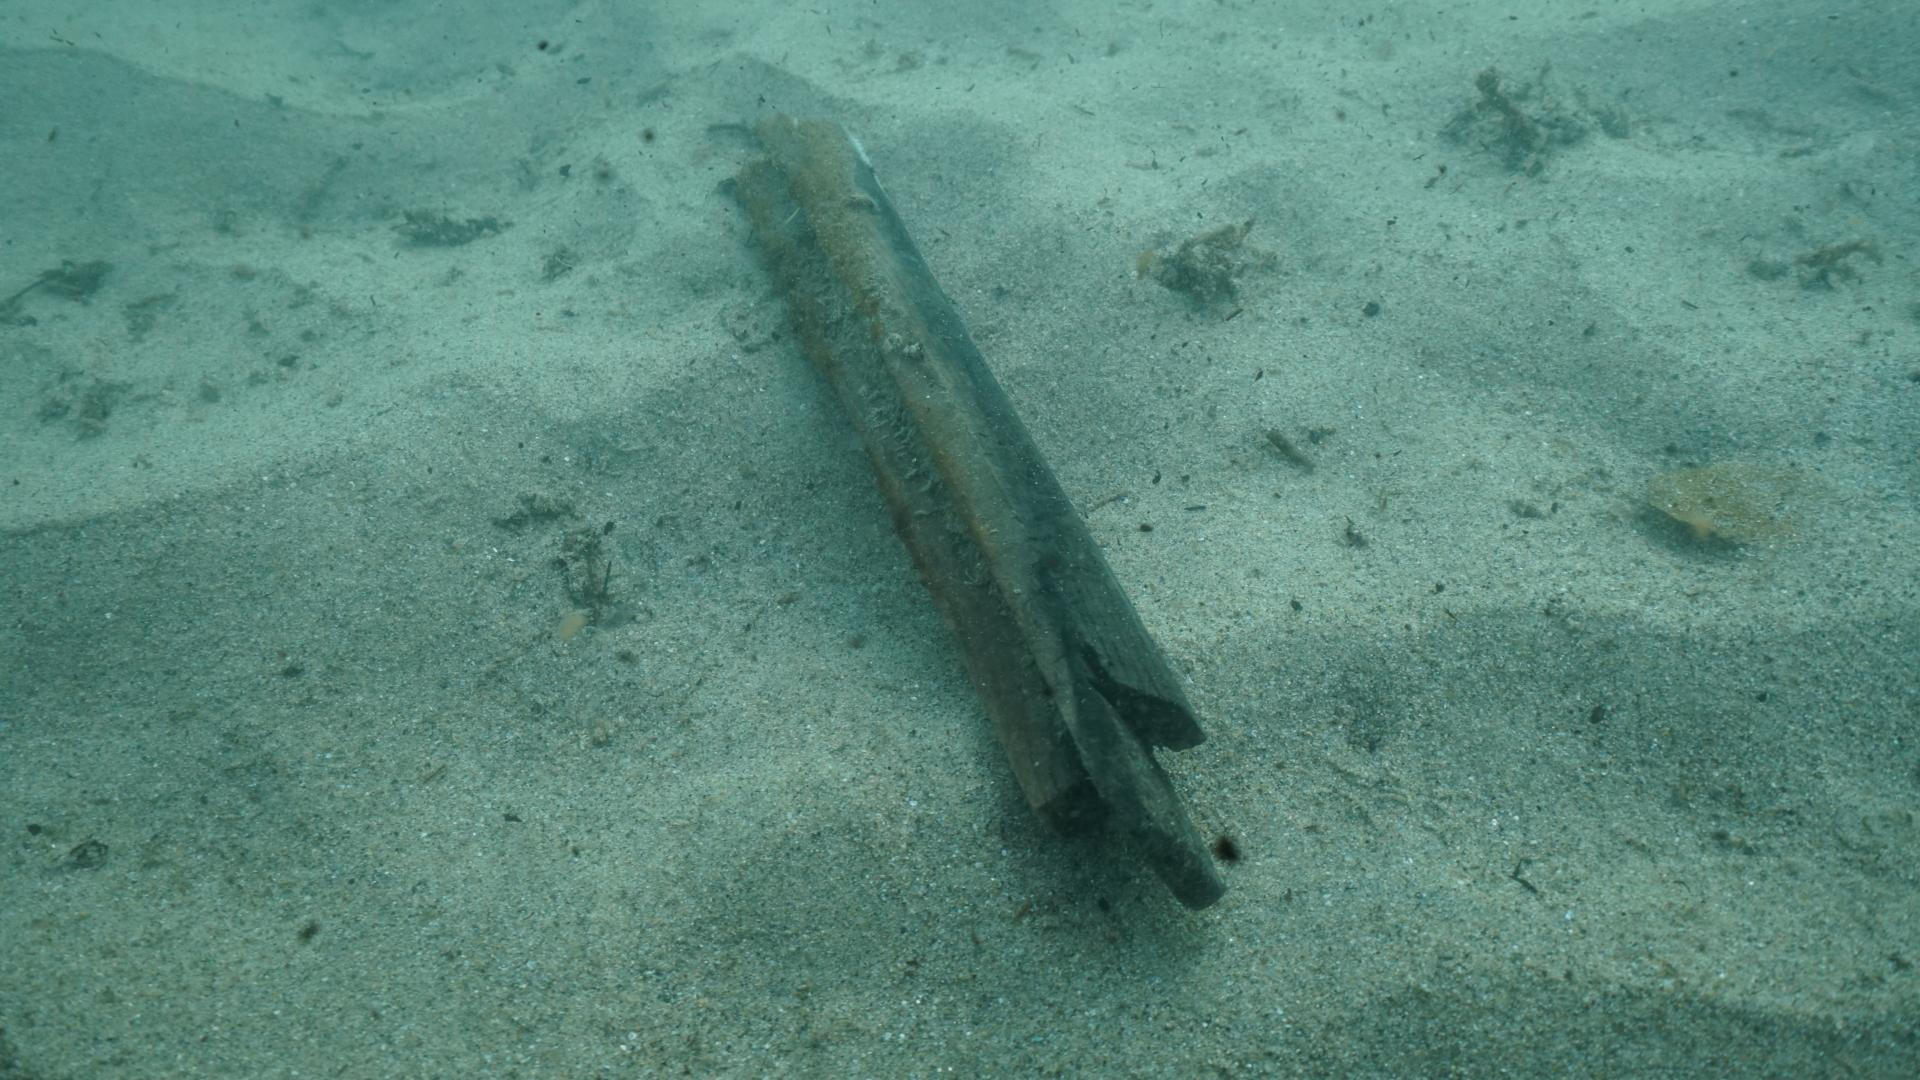wood: (724, 112, 1232, 916)
